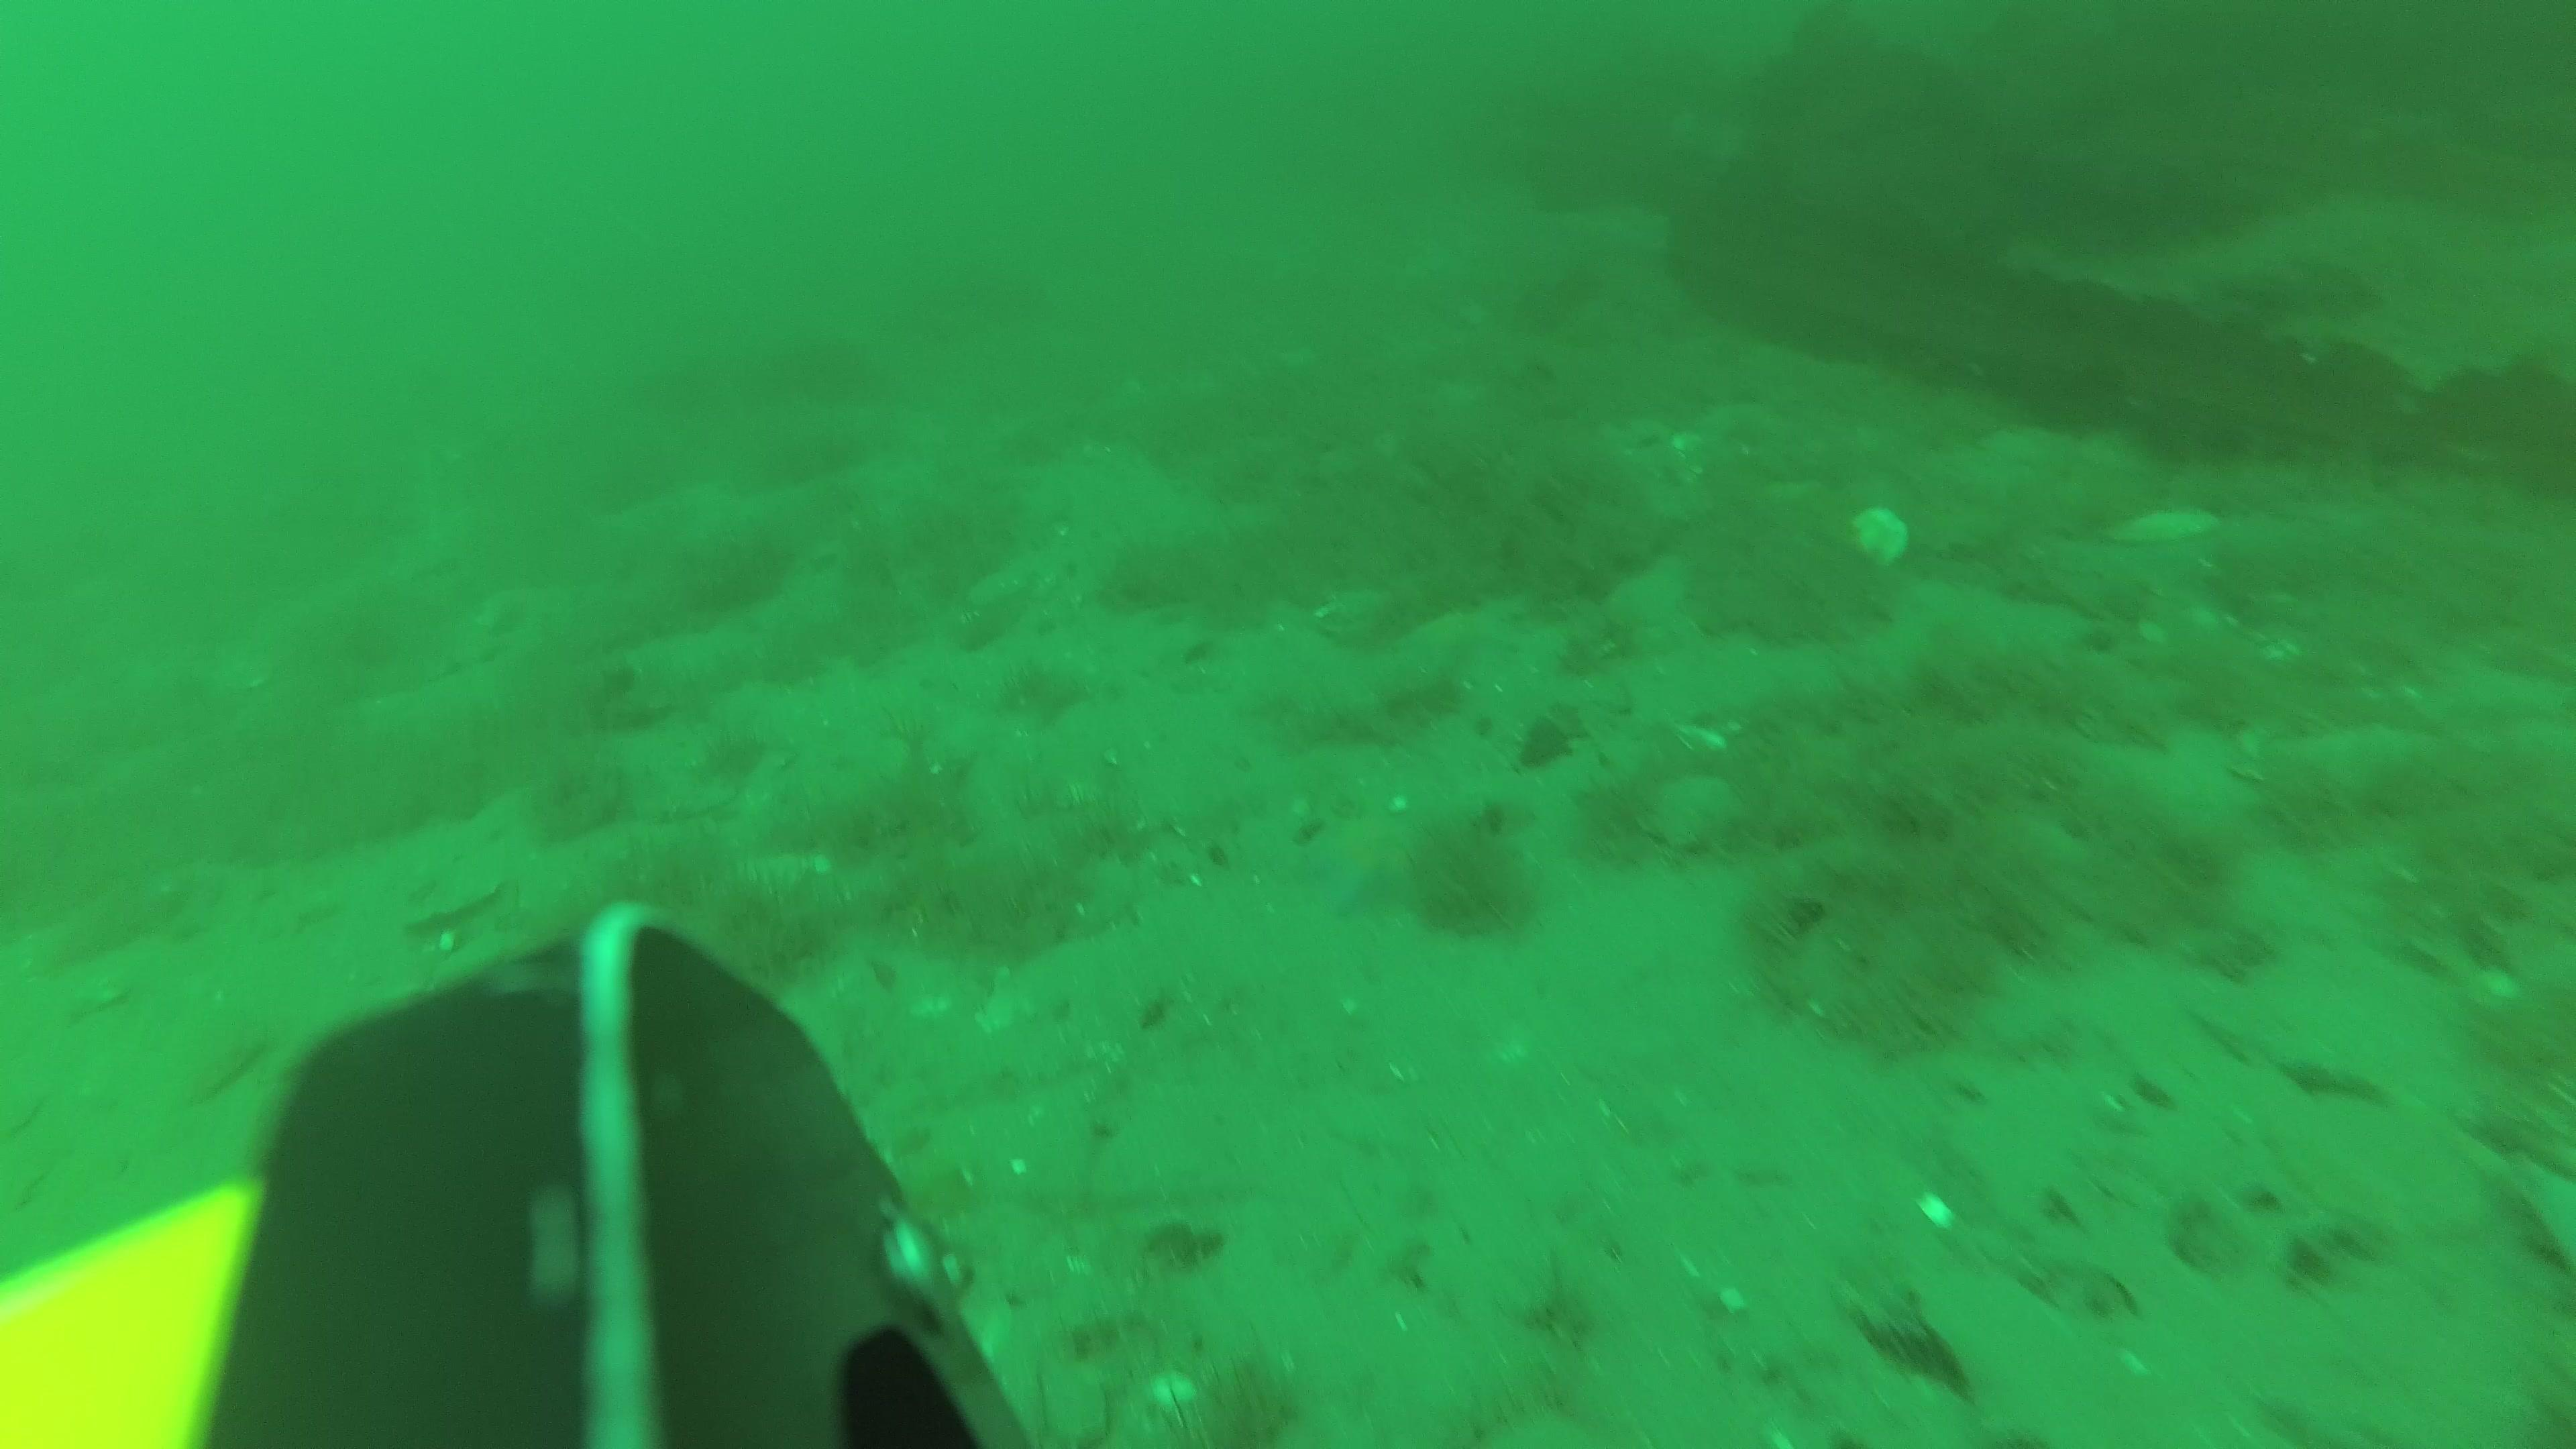scallop: (1647, 775, 1739, 844), (2093, 499, 2224, 540), (1849, 506, 1905, 570)
starfish: (1304, 821, 1445, 908), (1410, 609, 1509, 672)
